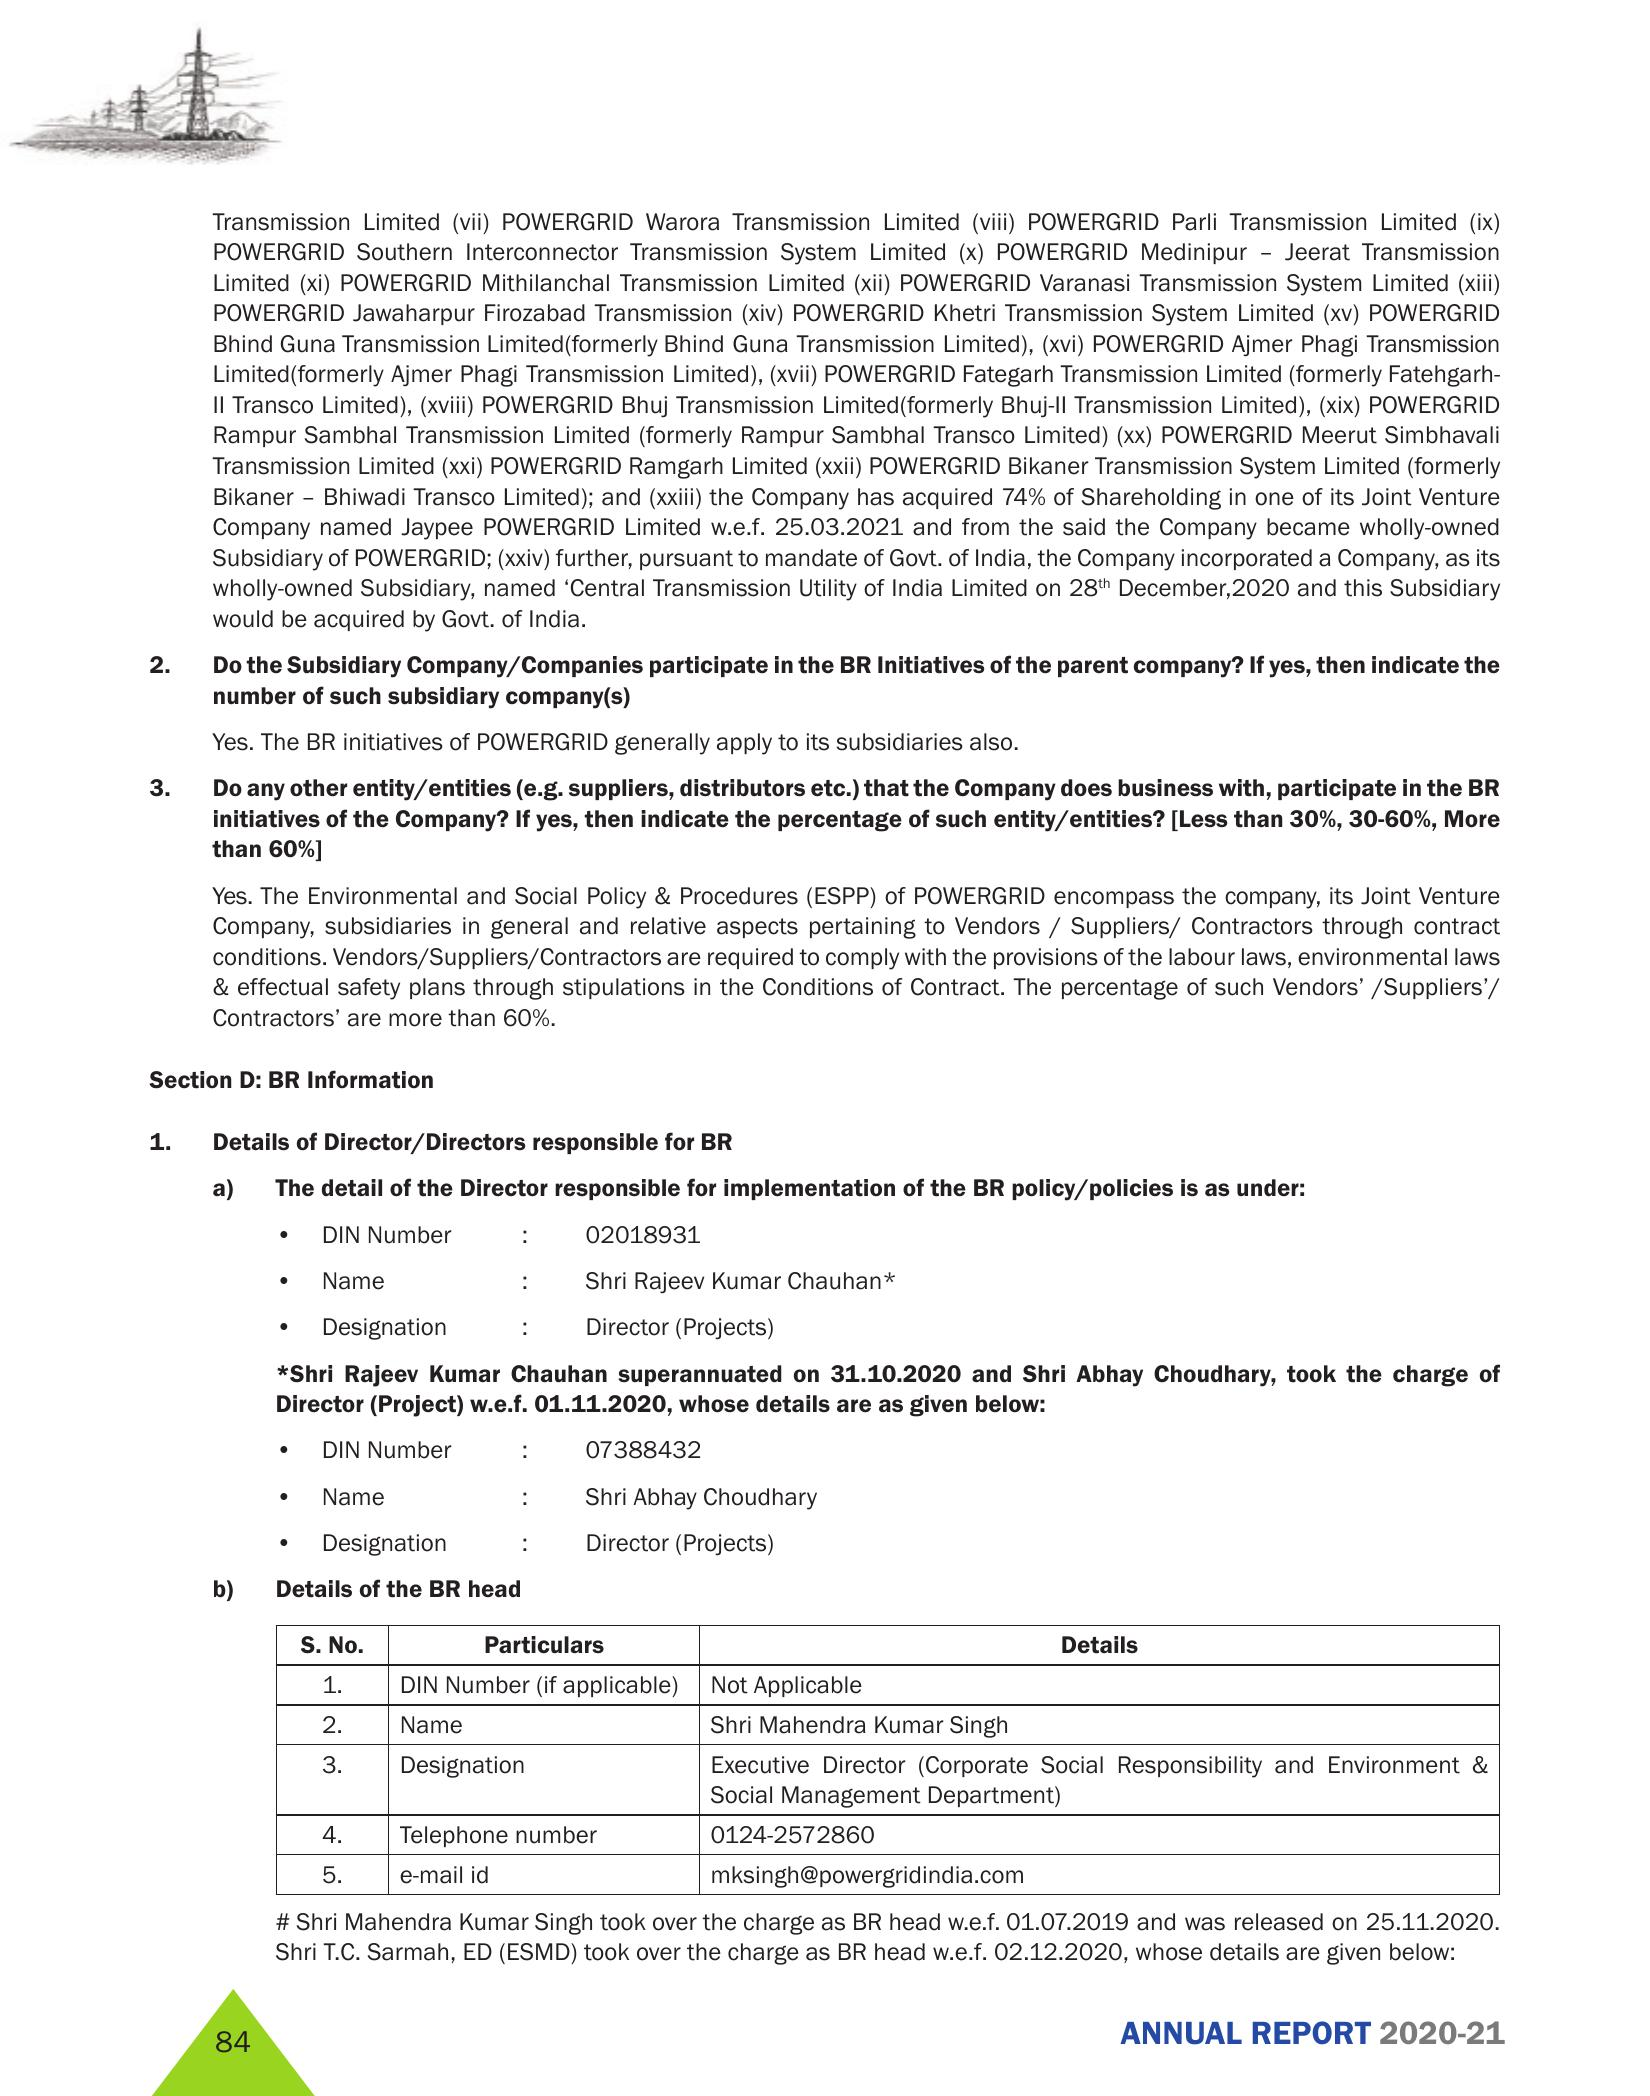Footer: (0, 1979, 1650, 2096)
Header: (0, 0, 1650, 189)
Table: (213, 1609, 1524, 1888)
